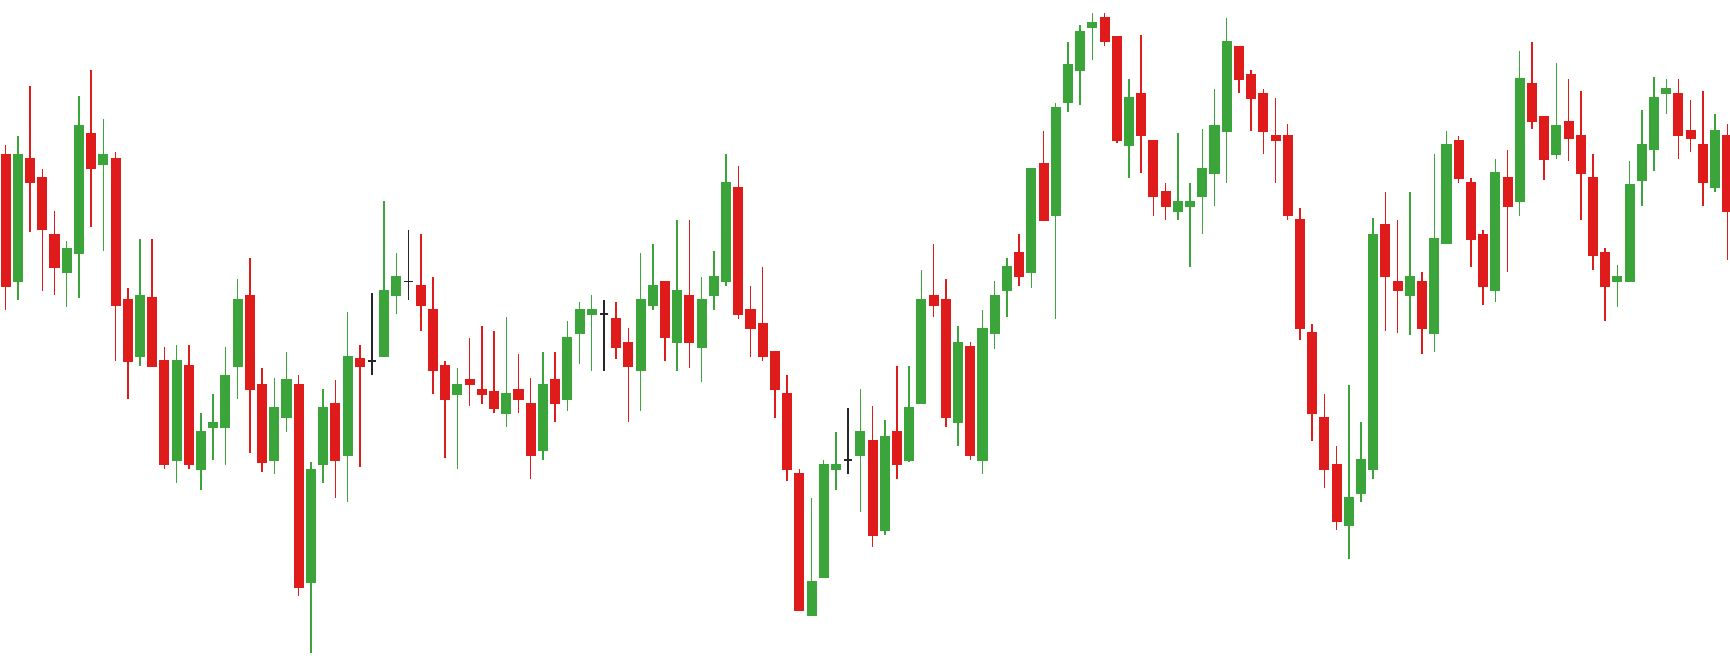buy: (524, 296, 832, 629), (1480, 115, 1622, 323)
sell: (1133, 17, 1245, 165), (25, 56, 98, 255)
